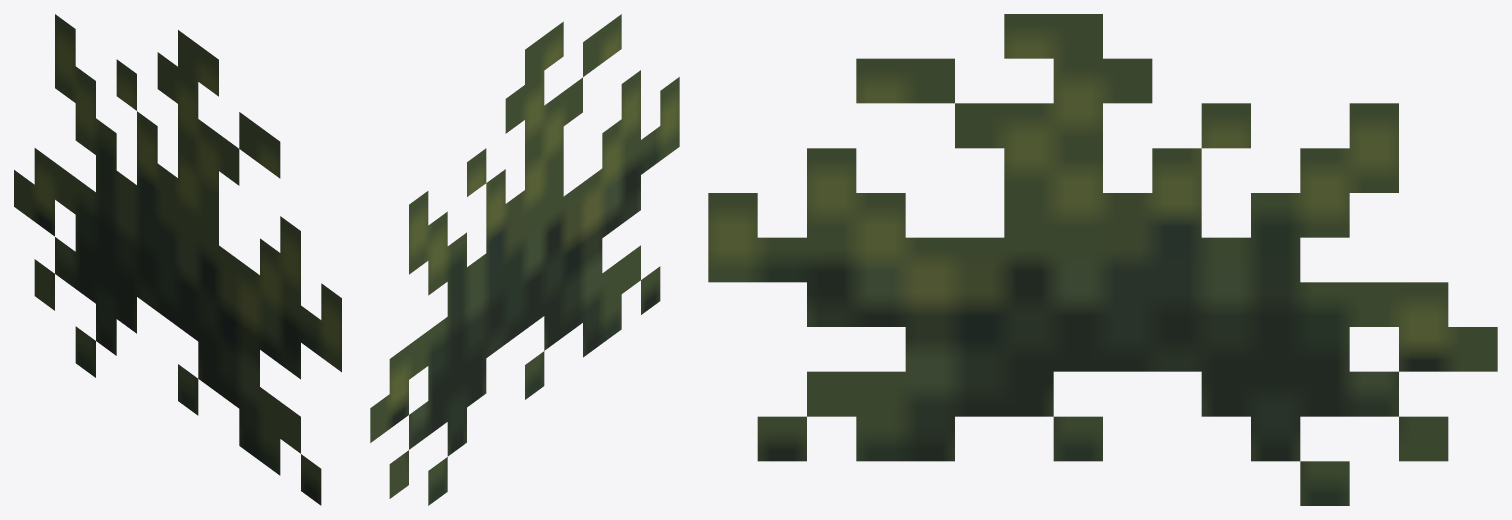
The model's file is ObjMD_Gardentree_A_07.FBX.
3 renders of one model, left to right at view 1: azimuth 30°, elevation 25°; view 2: azimuth 150°, elevation 25°; view 3: azimuth 270°, elevation 25°, orthographic. The views are drawn at different scales.
Visible parts, largest first — view 1: ObjMD_Gardentree_A_07; view 2: ObjMD_Gardentree_A_07; view 3: ObjMD_Gardentree_A_07.
Part boxes in pixels (x1,y1,x2,y2): ObjMD_Gardentree_A_07: [14, 14, 341, 505]; ObjMD_Gardentree_A_07: [370, 14, 679, 505]; ObjMD_Gardentree_A_07: [708, 14, 1497, 505].
Size of the model in its own units: 0 by 68.75 by 100.
